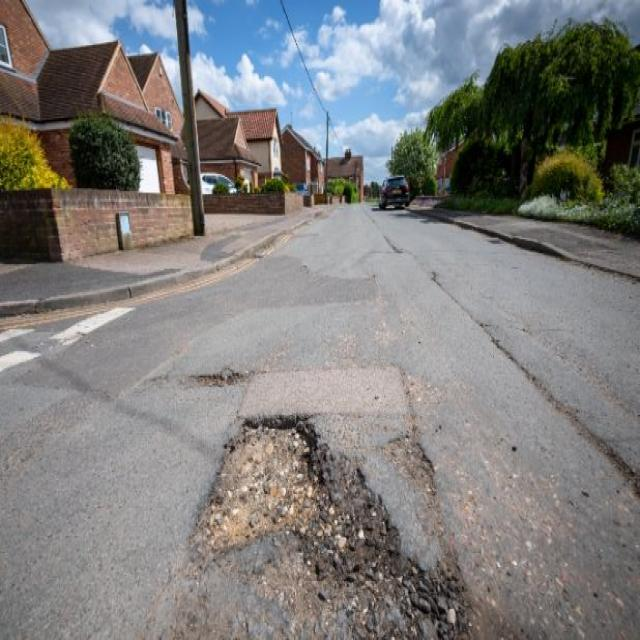pothole: (178, 404, 418, 617)
